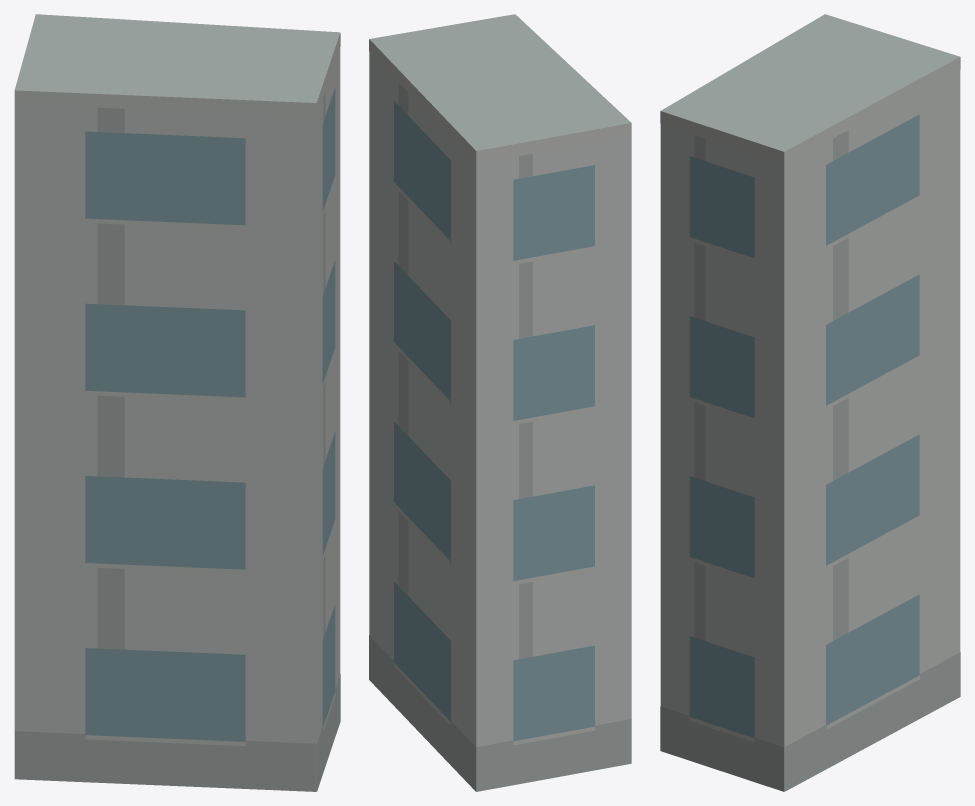
File: survey-upis-32757355.glb
3 renders of one model, left to right at view 1: azimuth 30°, elevation 25°; view 2: azimuth 150°, elevation 25°; view 3: azimuth 270°, elevation 25°, orthographic. The views are drawn at different scales.
Visible parts, largest first — view 1: survey-upis-32757355.tmp; view 2: survey-upis-32757355.tmp; view 3: survey-upis-32757355.tmp.
Boxes of the visible parts, x1,y1,x2,y2 form: survey-upis-32757355.tmp: (14,14,340,791); survey-upis-32757355.tmp: (369,14,631,791); survey-upis-32757355.tmp: (660,14,960,791).
Bounding box in the file's own units: 5.64 × 12.2 × 5.19.
